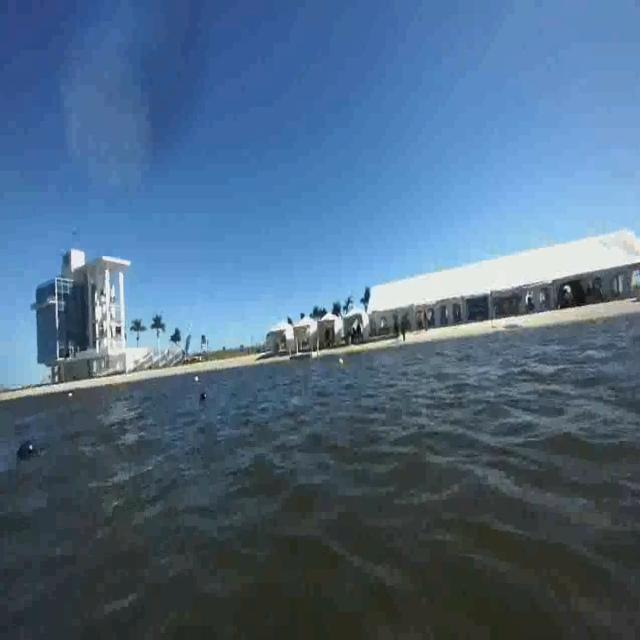black-buoy: (14, 439, 42, 466)
